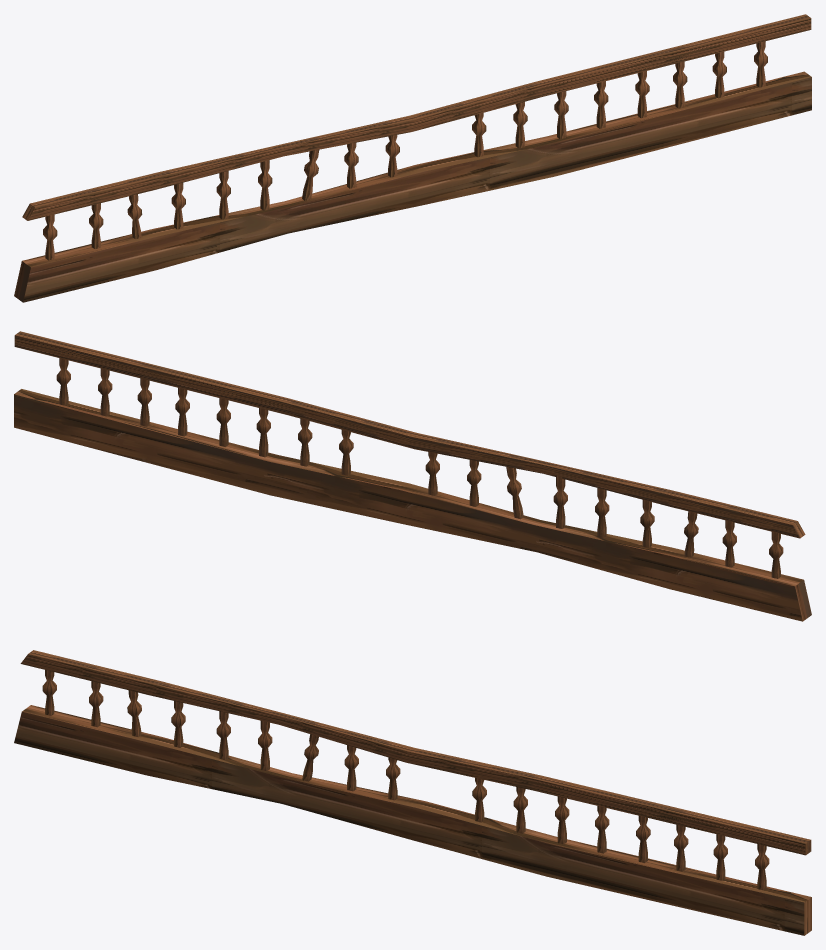
File: Railing_2.fbx
3 renders of one model, top to bottom at view 1: azimuth 30°, elevation 25°; view 2: azimuth 150°, elevation 25°; view 3: azimuth 330°, elevation 25°, orthographic.
Parts seen in each view (by area): view 1: 1_Railing_2; view 2: 1_Railing_2; view 3: 1_Railing_2.
Part boxes in pixels (left/top/right/bottom): 1_Railing_2: left=14, top=14, right=811, bottom=302; 1_Railing_2: left=14, top=331, right=811, bottom=621; 1_Railing_2: left=14, top=650, right=811, bottom=935.
Size of the model in its own units: 968 by 111 by 19.44.
